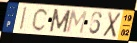6: (88, 11, 103, 36)
C: (31, 7, 50, 33)
I: (18, 5, 29, 32)
M: (48, 8, 72, 34), (65, 9, 88, 35)
X: (102, 11, 123, 39)
